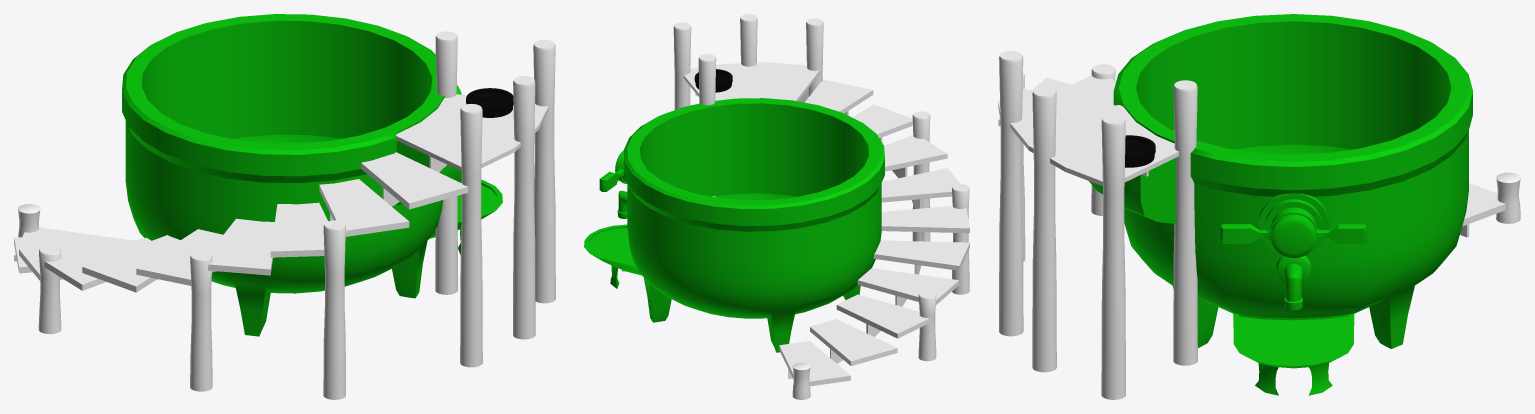
The model's file is ST_Fonderie.fbx.
3 renders of one model, left to right at view 1: azimuth 30°, elevation 25°; view 2: azimuth 150°, elevation 25°; view 3: azimuth 270°, elevation 25°, orthographic. The views are drawn at different scales.
Parts seen in each view (by area): view 1: ST_Fonderie; view 2: ST_Fonderie; view 3: ST_Fonderie.
Part boxes in pixels (<box>): ST_Fonderie: <box>14,14,555,399</box>; ST_Fonderie: <box>584,14,969,399</box>; ST_Fonderie: <box>998,14,1520,399</box>.
Bounding box in the file's own units: 592 × 323 × 554.
